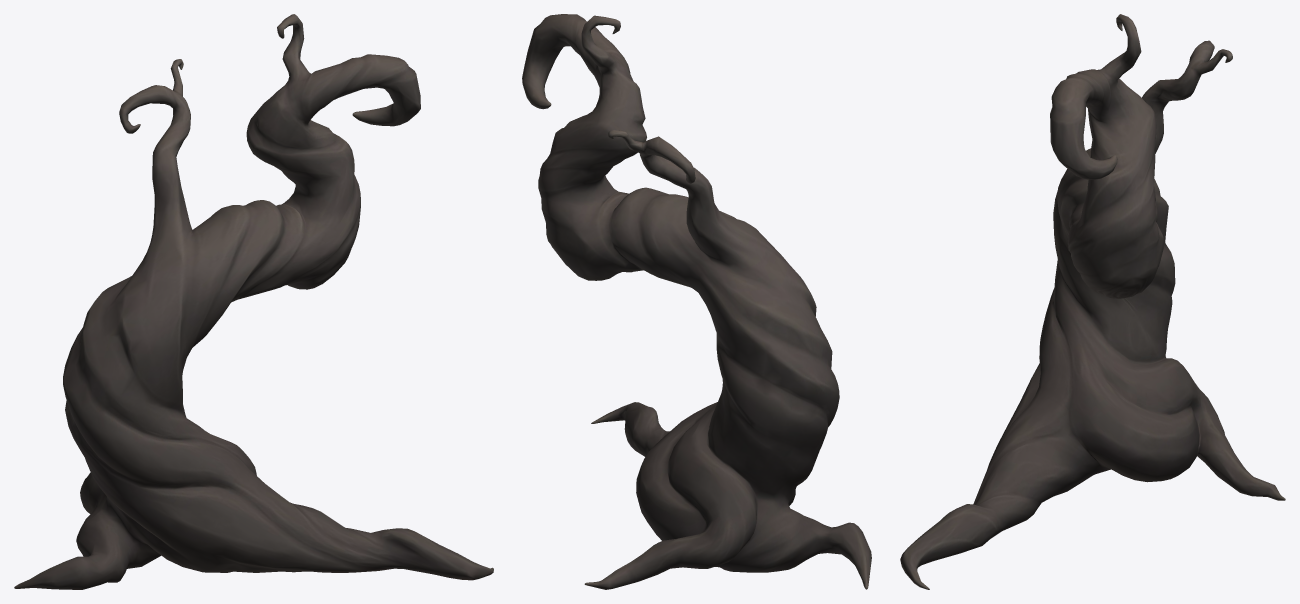
The model's file is swirly_tree_02_c.glb.
3 renders of one model, left to right at view 1: azimuth 30°, elevation 25°; view 2: azimuth 150°, elevation 25°; view 3: azimuth 270°, elevation 25°, orthographic. The views are drawn at different scales.
Visible parts, largest first — view 1: SM_KC_Swirly_Tree_02_C; view 2: SM_KC_Swirly_Tree_02_C; view 3: SM_KC_Swirly_Tree_02_C.
Boxes of the visible parts, x1,y1,x2,y2 form: SM_KC_Swirly_Tree_02_C: (14, 14, 493, 589); SM_KC_Swirly_Tree_02_C: (522, 14, 871, 589); SM_KC_Swirly_Tree_02_C: (900, 14, 1285, 589).
Size of the model in its own units: 16.9 by 21.91 by 14.56.
1 material, 1 textured.
